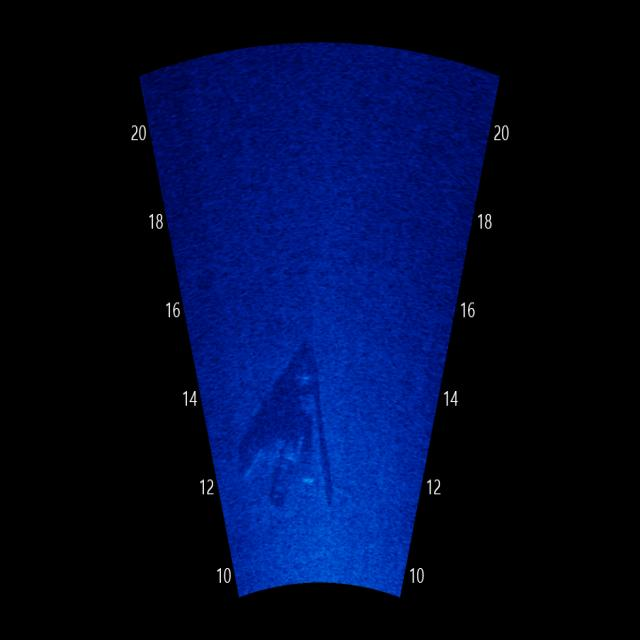triangle: (230, 343, 350, 512)
